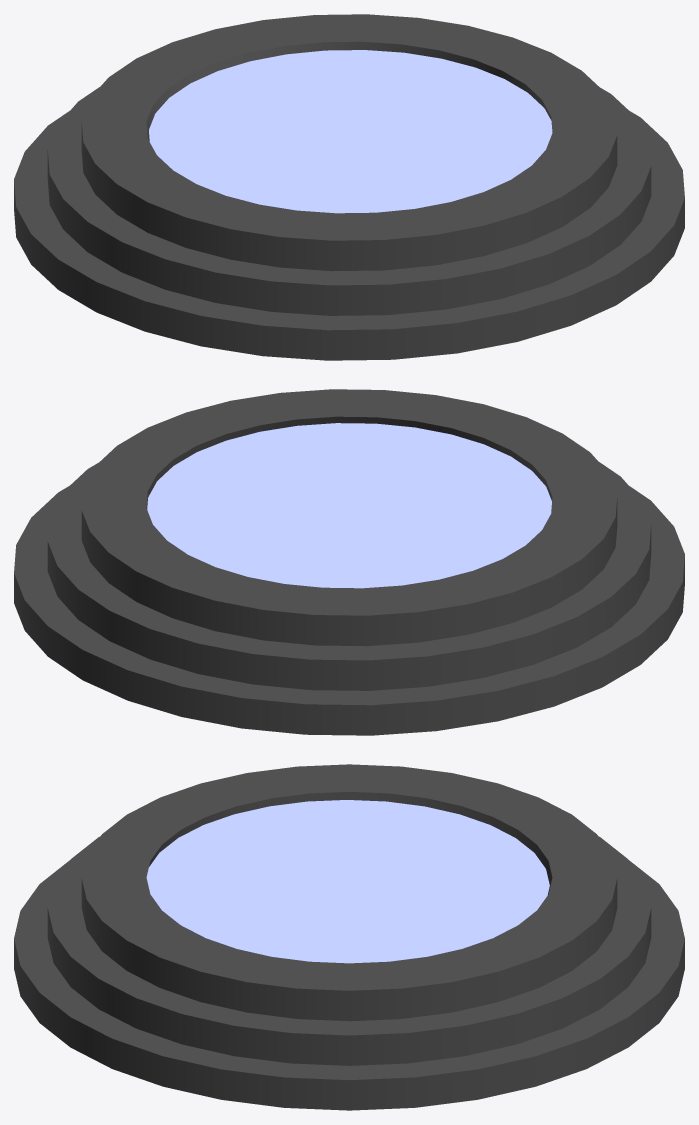
Rendered from teleporter.gltf.
3 renders of one model, top to bottom at view 1: azimuth 30°, elevation 25°; view 2: azimuth 150°, elevation 25°; view 3: azimuth 270°, elevation 25°, orthographic.
Visible parts, largest first — view 1: Circle; view 2: Circle; view 3: Circle.
Part boxes in pixels (x1,y1,x2,y2): Circle: (14,14,684,360); Circle: (14,389,684,735); Circle: (14,764,684,1110).
Size of the model in its own units: 2 by 0.3 by 2.
Materials: 1 (1 with a texture image).
